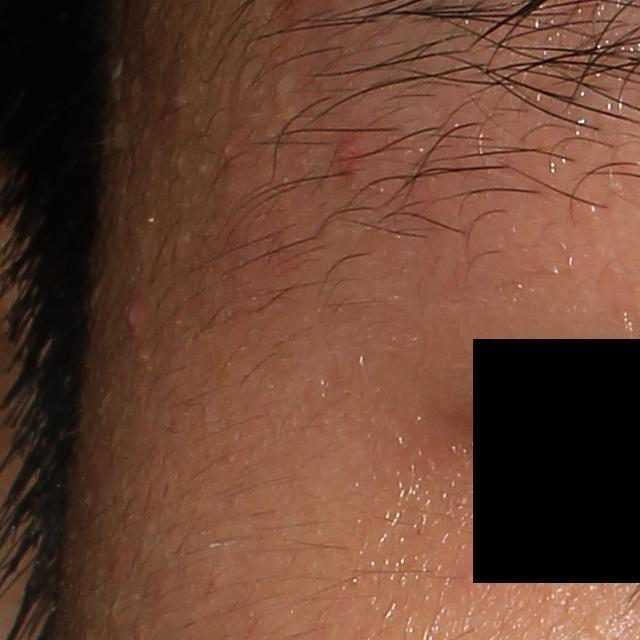papule: (327, 124, 381, 181), (123, 297, 148, 336)
